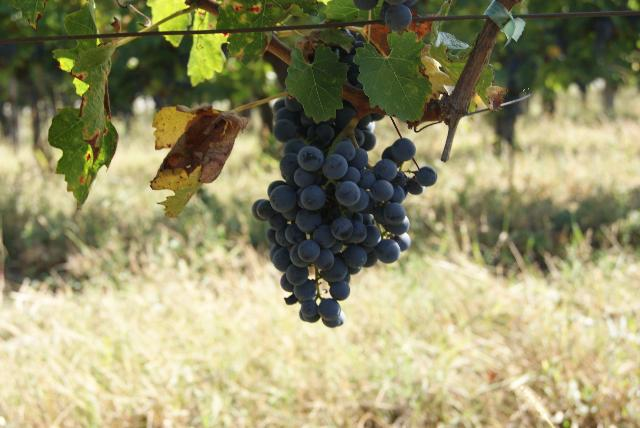grapes: (251, 96, 438, 328)
